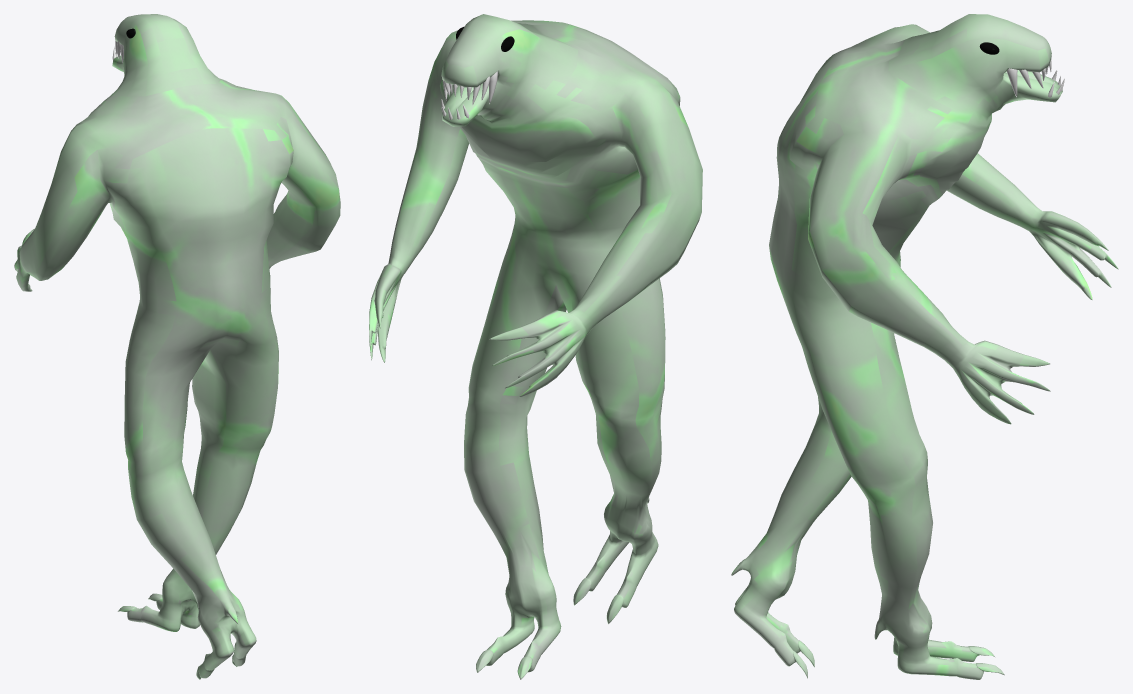
Rendered from Berserkercorrer.0072.obj.
The picture shows the model from 3 angles, left to right: view 1: azimuth 30°, elevation 25°; view 2: azimuth 150°, elevation 25°; view 3: azimuth 270°, elevation 25°; orthographic projection. The views are drawn at different scales.
Parts seen in each view (by area): view 1: polySurface27; view 2: polySurface27; view 3: polySurface27.
Part boxes in pixels (left/top/right/bottom): polySurface27: left=14, top=14, right=340, bottom=679; polySurface27: left=369, top=14, right=702, bottom=679; polySurface27: left=731, top=14, right=1118, bottom=679.
Size of the model in its own units: 11.34 by 24 by 12.64.
1 material, 1 textured.
